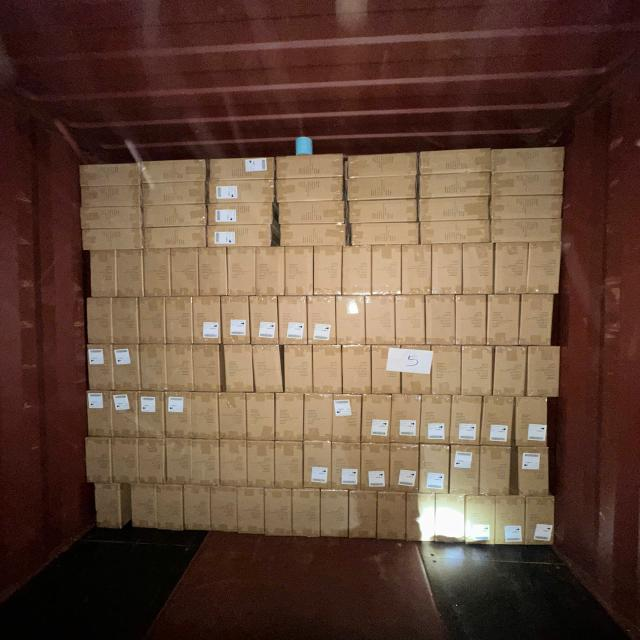Carton: (493, 146, 569, 174), (492, 172, 567, 200), (488, 194, 563, 221), (416, 147, 488, 175), (488, 217, 562, 244), (416, 175, 488, 202), (346, 154, 418, 180), (344, 178, 416, 204), (276, 176, 345, 203), (418, 220, 489, 246), (514, 397, 550, 448), (529, 243, 563, 297), (522, 293, 557, 345), (278, 200, 348, 226), (526, 344, 560, 397), (493, 244, 527, 297), (514, 446, 550, 496), (417, 197, 489, 222), (276, 155, 345, 181), (348, 199, 418, 224), (81, 160, 145, 187), (142, 159, 208, 185), (350, 222, 421, 246), (486, 296, 520, 346), (464, 245, 496, 298), (493, 346, 526, 397), (479, 445, 512, 496), (278, 223, 348, 247), (429, 244, 461, 296), (146, 182, 210, 208), (481, 397, 514, 447), (143, 203, 209, 228), (206, 182, 273, 206), (460, 345, 492, 395), (454, 296, 486, 346), (78, 185, 142, 210), (206, 224, 272, 248), (207, 202, 273, 226), (78, 206, 143, 230), (451, 396, 482, 446), (402, 345, 433, 395), (371, 345, 402, 395), (402, 246, 432, 297), (224, 344, 255, 393), (208, 157, 274, 180), (147, 225, 210, 249), (394, 296, 424, 346), (364, 296, 394, 346), (372, 247, 402, 297), (420, 444, 450, 494), (257, 248, 287, 298), (336, 296, 366, 346), (432, 344, 462, 394), (228, 248, 258, 298), (450, 445, 480, 495), (496, 497, 526, 547), (524, 497, 554, 547), (407, 492, 437, 542), (82, 228, 144, 252), (425, 295, 454, 346), (391, 444, 421, 493), (390, 396, 420, 445), (422, 396, 452, 445), (466, 497, 496, 546), (342, 247, 371, 297), (361, 395, 390, 445), (313, 248, 342, 298), (313, 344, 342, 394), (360, 442, 389, 492), (253, 344, 283, 392), (377, 494, 407, 542), (199, 250, 229, 298), (436, 496, 466, 544), (221, 297, 250, 346), (194, 297, 223, 346), (278, 297, 307, 346), (304, 394, 333, 443), (342, 345, 371, 394), (334, 395, 363, 444), (246, 393, 275, 442), (284, 344, 312, 394), (285, 248, 313, 298), (276, 393, 304, 443), (319, 491, 348, 539), (333, 442, 362, 490), (265, 489, 294, 537), (250, 297, 278, 346), (275, 440, 303, 489), (308, 297, 336, 346), (303, 442, 332, 489), (218, 393, 246, 441), (219, 439, 247, 487), (166, 392, 194, 440), (349, 492, 377, 540), (143, 250, 171, 298), (172, 250, 200, 298), (194, 345, 222, 393), (249, 440, 277, 488), (192, 438, 220, 486), (210, 487, 238, 535), (193, 392, 220, 441), (292, 490, 319, 539), (238, 486, 265, 534), (168, 298, 195, 346), (116, 251, 143, 299), (91, 251, 118, 299), (112, 346, 140, 392), (112, 298, 140, 344), (182, 485, 210, 531), (113, 438, 141, 484), (94, 482, 122, 528), (139, 438, 166, 485), (140, 299, 167, 346), (168, 344, 195, 391), (88, 298, 115, 345), (113, 391, 140, 438), (131, 483, 158, 529), (158, 486, 185, 532), (141, 344, 167, 391), (139, 392, 165, 439), (167, 438, 193, 485), (87, 437, 113, 484), (88, 389, 114, 436), (89, 344, 115, 390)
